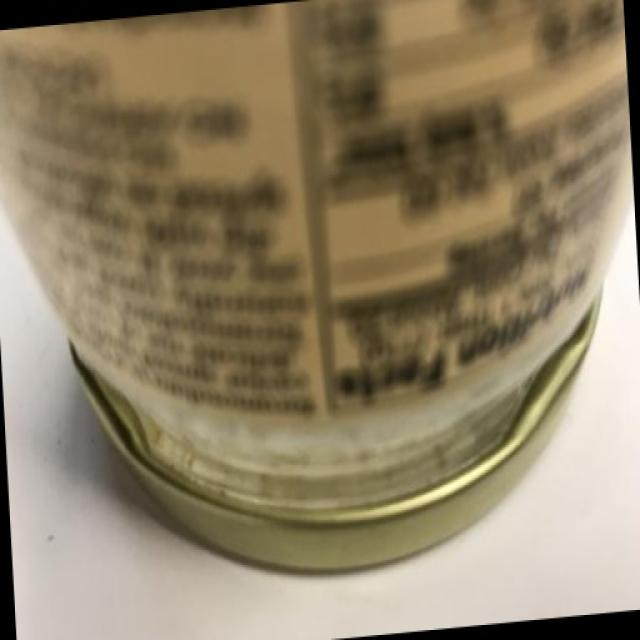vidrio: (14, 9, 640, 541)
